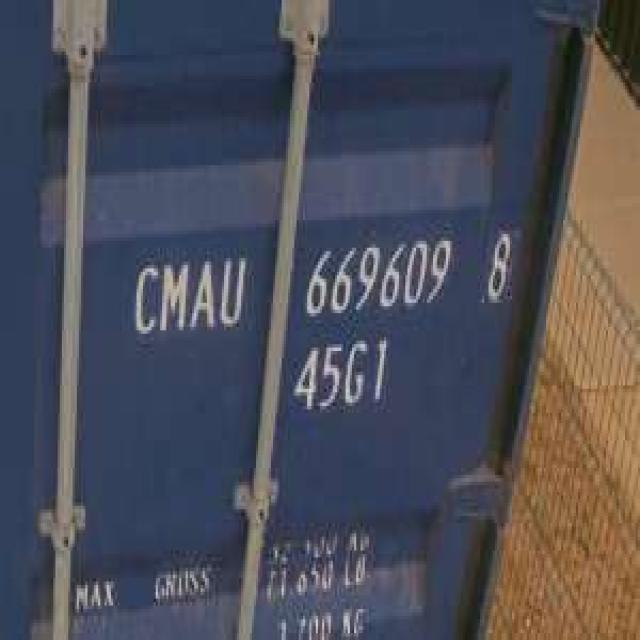dv: (482, 218, 520, 314)
owner: (129, 248, 250, 340)
serial: (304, 231, 456, 320)
size: (288, 329, 393, 422)
